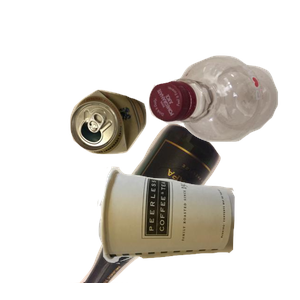glass: (66, 120, 279, 300)
metal: (67, 87, 206, 234)
plastic: (146, 53, 300, 187)
trash: (95, 164, 300, 300)
